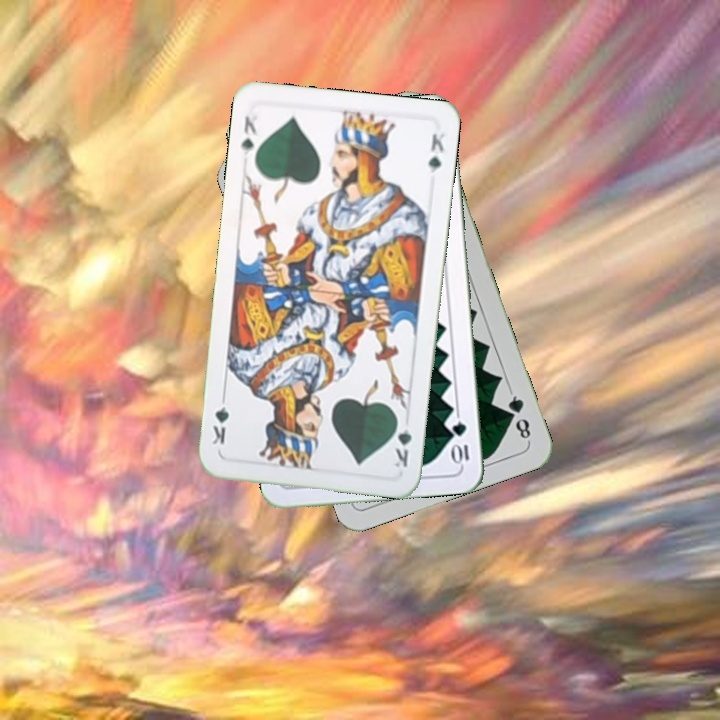G10: (448, 417, 472, 467)
G8: (504, 387, 533, 445)
GK: (389, 413, 415, 470), (237, 111, 261, 159)
